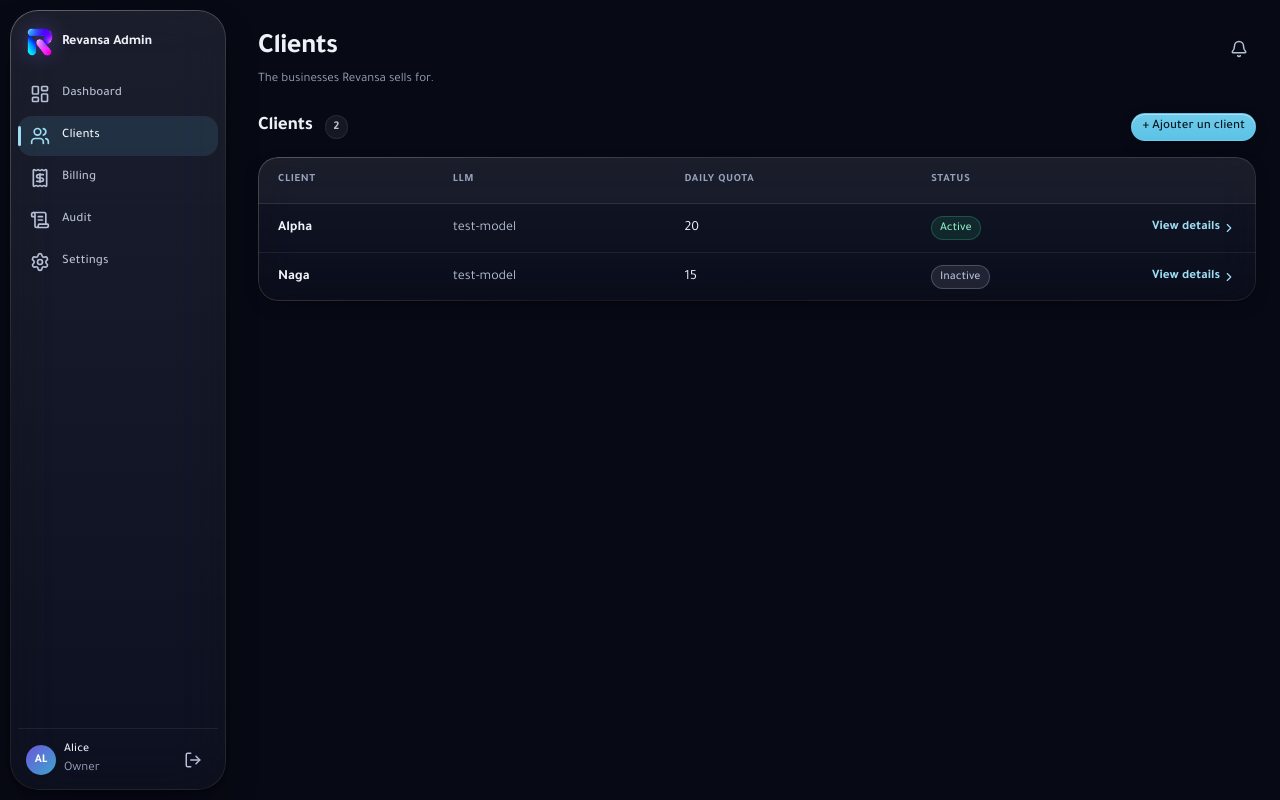
Test case: AdminClientsPage › shows an empty Modèle LLM dropdown when Settings enables no model
The width and height of the screenshot is (1280, 800).
Expected: the column heading "Alpha" is shown, [258,203,433,252]
Click the button "+ Ajouter un client": (1194, 127) [1131,113,1256,141]
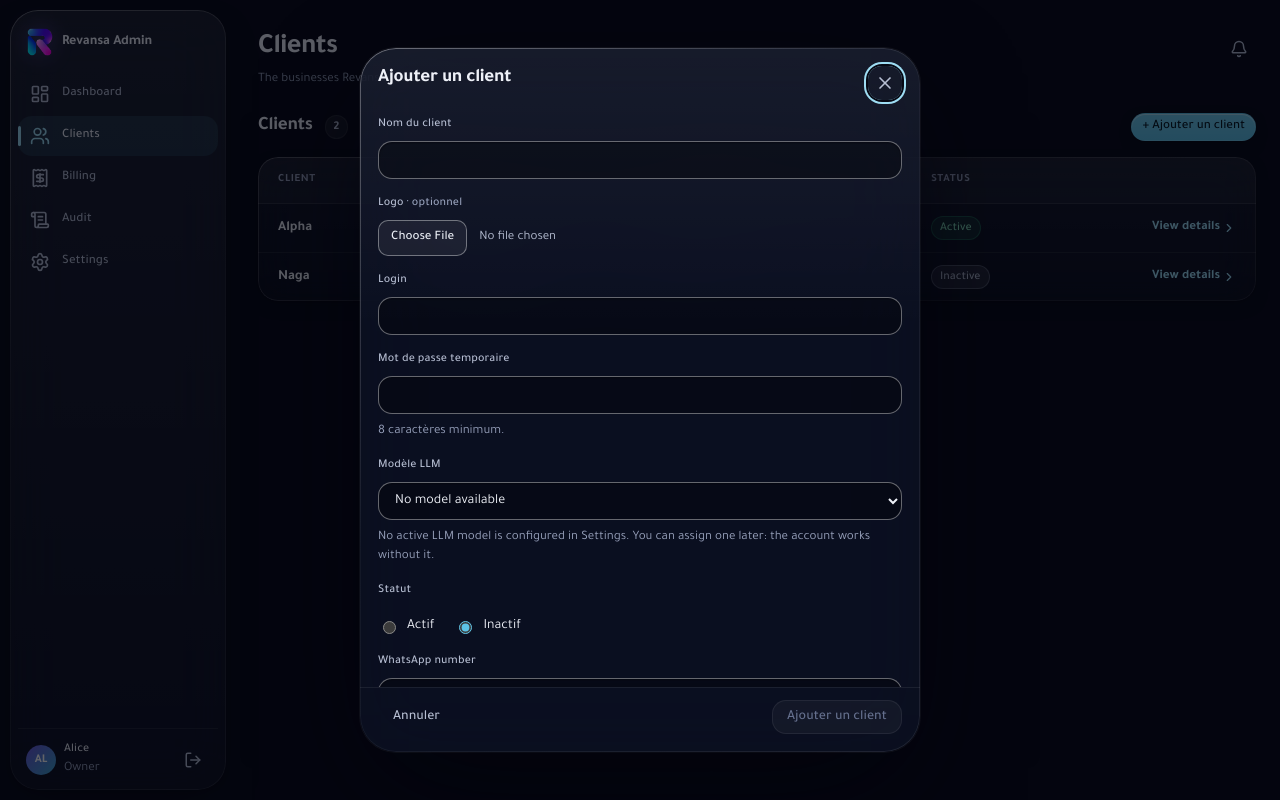
Now the dropdown labelled "Modèle LLM" is enabled, box [378,482,902,520]
